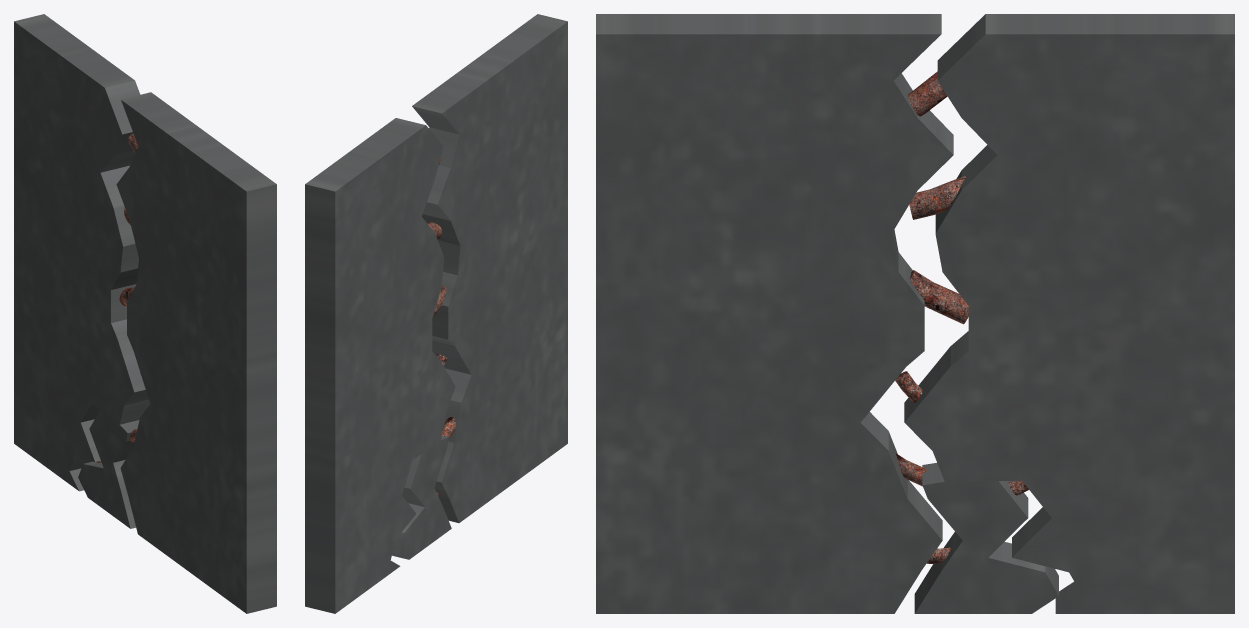
The model's file is wall 4_v1.fbx.
3 renders of one model, left to right at view 1: azimuth 30°, elevation 25°; view 2: azimuth 150°, elevation 25°; view 3: azimuth 270°, elevation 25°, orthographic. The views are drawn at different scales.
Visible parts, largest first — view 1: Plane.017, Cylinder.027; view 2: Plane.017, Cylinder.027; view 3: Plane.017, Cylinder.027.
Boxes of the visible parts, bbox=[...] form: Plane.017: bbox=[14, 14, 276, 613]; Cylinder.027: bbox=[96, 133, 140, 462]; Plane.017: bbox=[305, 14, 567, 613]; Cylinder.027: bbox=[427, 156, 455, 495]; Plane.017: bbox=[596, 14, 1234, 613]; Cylinder.027: bbox=[895, 71, 1028, 563].
Bounding box in the file's own units: 15 × 200 × 200.
